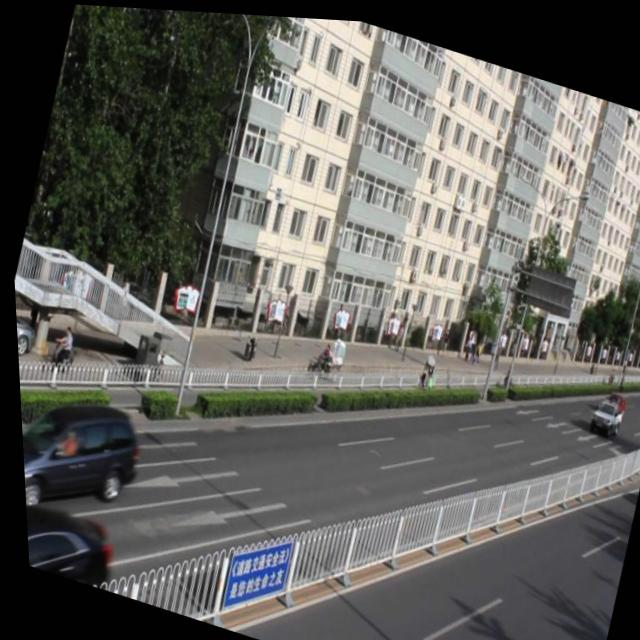car: (15, 371, 145, 533), (20, 481, 111, 588)
